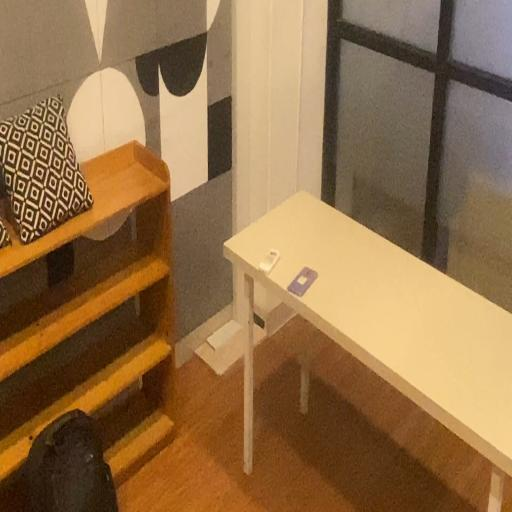bantal: (0, 94, 95, 250)
hp: (286, 266, 320, 300)
remote AC: (258, 246, 281, 278)
tas ransel: (24, 408, 121, 512)
